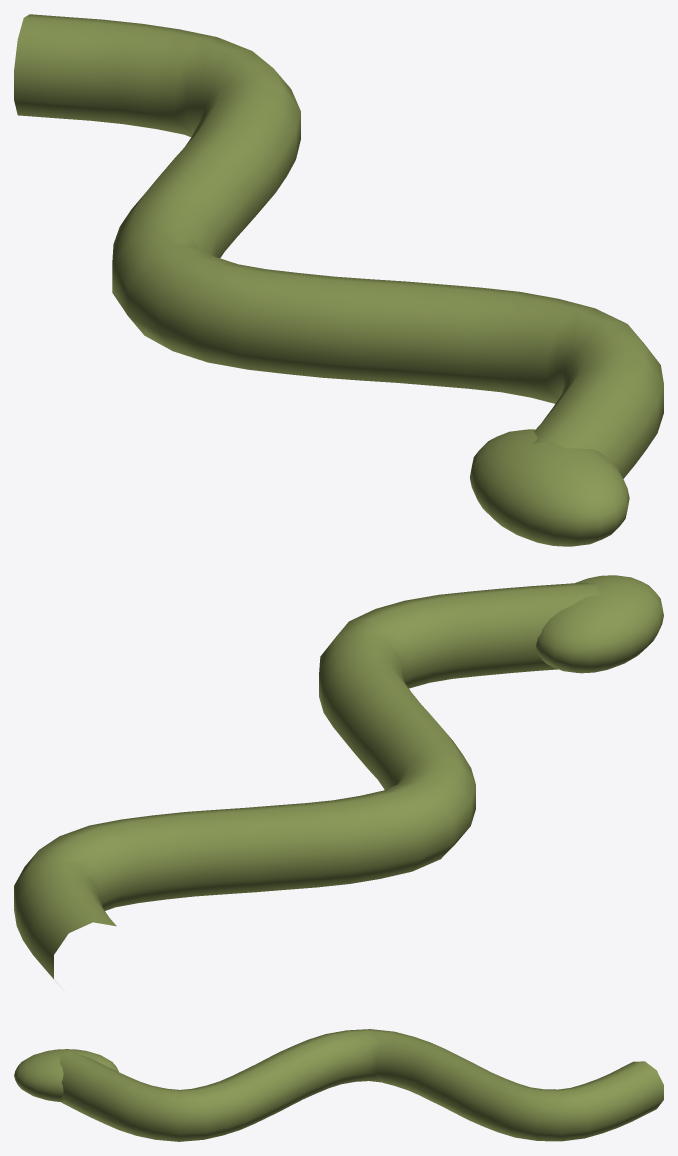
Rendered from pet-23.glb.
3 views of the same model, one above another, from view 1: azimuth 30°, elevation 25°; view 2: azimuth 150°, elevation 25°; view 3: azimuth 270°, elevation 25° (orthographic). The views are drawn at different scales.
Parts seen in each view (by area): view 1: pet, head; view 2: pet, head; view 3: pet, head.
Part boxes in pixels (x1=…): pet: x1=14, y1=14, x2=663, y2=478; head: x1=470, y1=429, x2=629, y2=546; pet: x1=14, y1=582, x2=599, y2=983; head: x1=536, y1=575, x2=663, y2=673; pet: x1=60, y1=1029, x2=663, y2=1141; head: x1=14, y1=1049, x2=118, y2=1101.
Size of the model in its own units: 0.4036 by 0.11 by 1.35.
